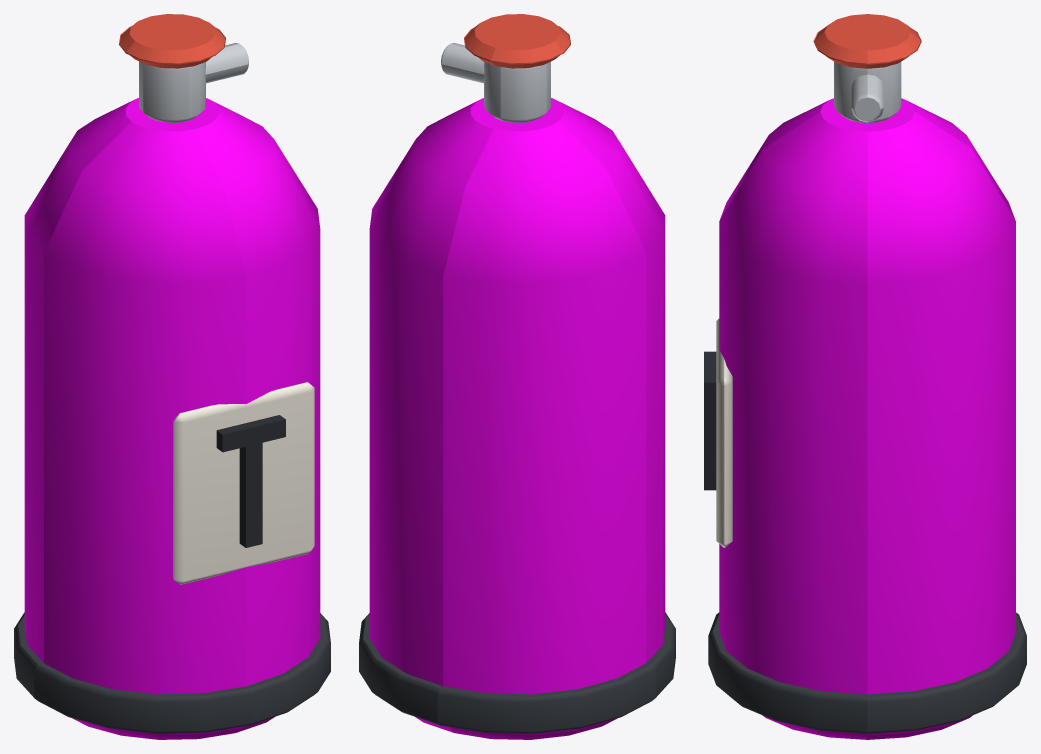
The model's file is objet_tritium.glb.
The picture shows the model from 3 angles, left to right: view 1: azimuth 30°, elevation 25°; view 2: azimuth 150°, elevation 25°; view 3: azimuth 270°, elevation 25°; orthographic projection.
Visible parts, largest first — view 1: bonbonne_teinte.006, bonbonne_etiquette.004, bonbonne_teinte_sombre.006, bonbonne_composant_clair.006, bonbonne_led_rouge.004, bonbonne_composant.004; view 2: bonbonne_teinte.006, bonbonne_teinte_sombre.006, bonbonne_composant_clair.006, bonbonne_led_rouge.004; view 3: bonbonne_teinte.006, bonbonne_teinte_sombre.006, bonbonne_led_rouge.004, bonbonne_composant_clair.006, bonbonne_etiquette.004, bonbonne_composant.004.
Part boxes in pixels (bbox=[...]): bonbonne_teinte.006: bbox=[24, 98, 320, 739]; bonbonne_etiquette.004: bbox=[173, 382, 314, 584]; bonbonne_teinte_sombre.006: bbox=[14, 612, 330, 733]; bonbonne_composant_clair.006: bbox=[139, 43, 248, 122]; bonbonne_led_rouge.004: bbox=[119, 14, 225, 68]; bonbonne_composant.004: bbox=[216, 415, 285, 547]; bonbonne_teinte.006: bbox=[369, 98, 665, 739]; bonbonne_teinte_sombre.006: bbox=[359, 612, 675, 733]; bonbonne_composant_clair.006: bbox=[441, 43, 550, 122]; bonbonne_led_rouge.004: bbox=[464, 14, 570, 68]; bonbonne_teinte.006: bbox=[719, 98, 1015, 739]; bonbonne_teinte_sombre.006: bbox=[708, 612, 1026, 733]; bonbonne_led_rouge.004: bbox=[813, 14, 921, 68]; bonbonne_composant_clair.006: bbox=[834, 62, 901, 122]; bonbonne_etiquette.004: bbox=[716, 318, 732, 547]; bonbonne_composant.004: bbox=[704, 351, 716, 490].
Size of the model in its own units: 0.118 by 0.2675 by 0.1196.
